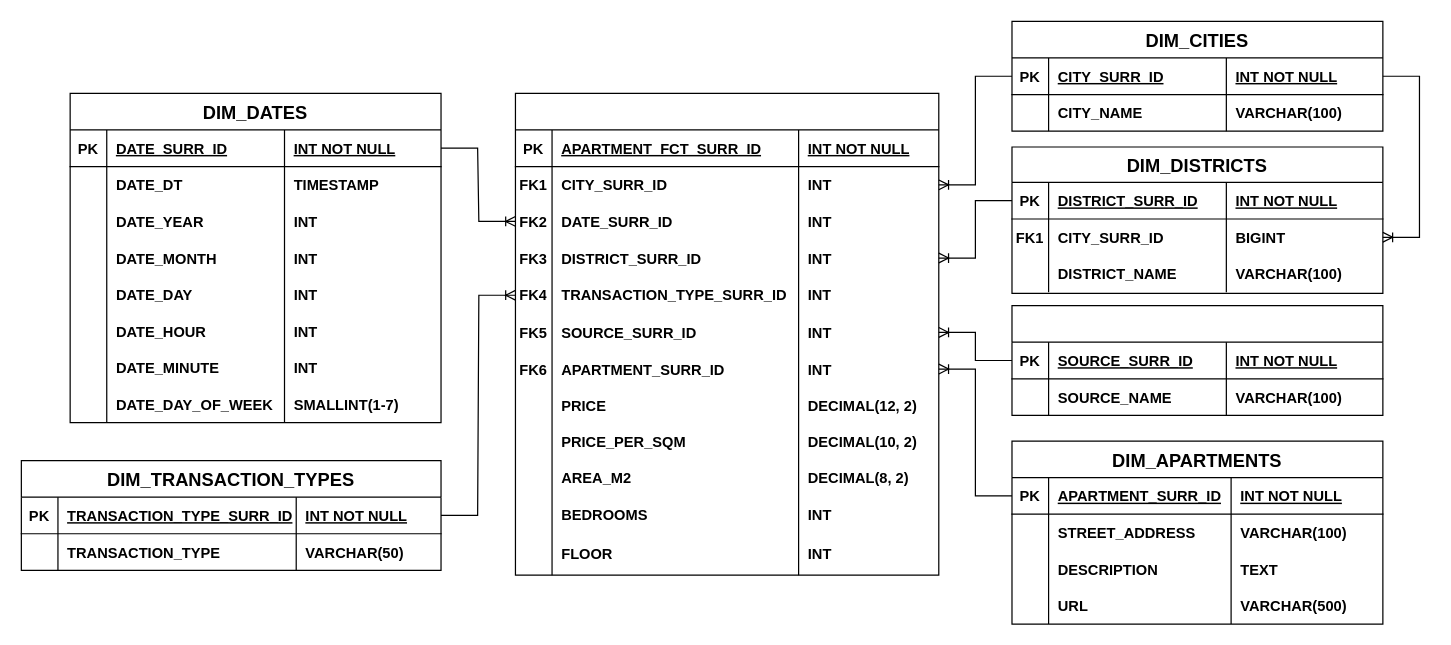
Image size: 1451x645. Some labels were removed from this diagram. Each missing label, with the box of its shape:
DIM_SOURCES: (1011, 304, 1383, 415)
FCT_APARTMENTS: (514, 92, 939, 575)
